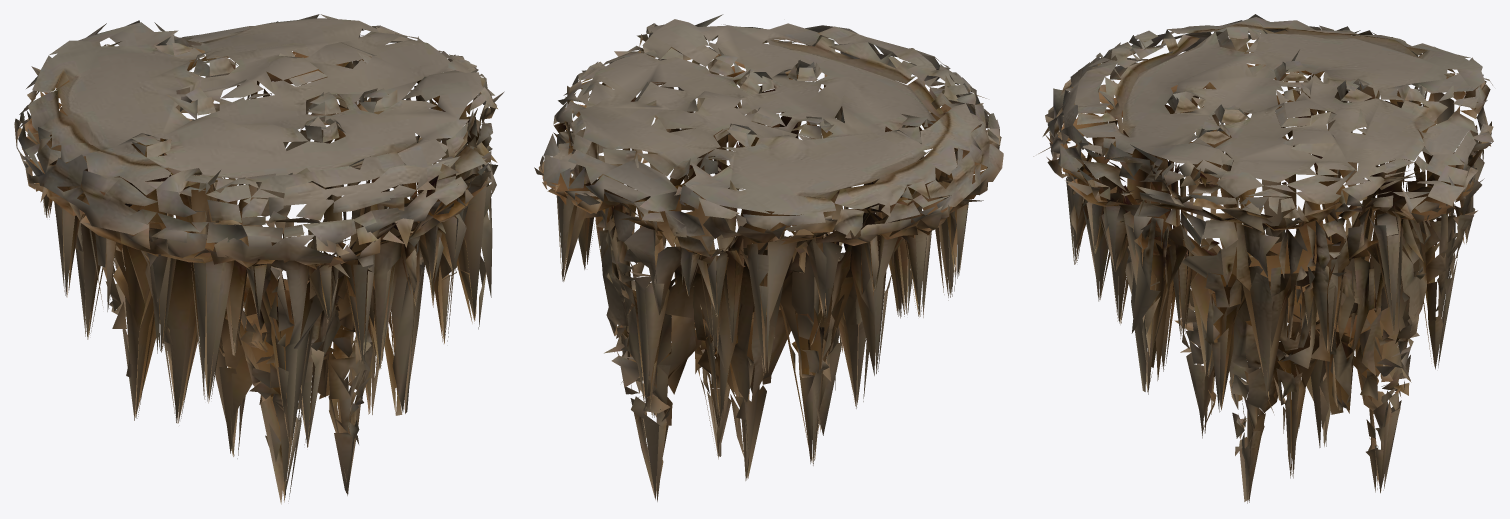
Rendered from cav_stalactite_ceiling_cluster_LOD2.glb.
3 views of the same model, side by side, from view 1: azimuth 30°, elevation 25°; view 2: azimuth 150°, elevation 25°; view 3: azimuth 270°, elevation 25° (orthographic). The views are drawn at different scales.
Visible parts, largest first — view 1: tripo_node_cf9095d3-c141-4859-948e-a06c82a533c3; view 2: tripo_node_cf9095d3-c141-4859-948e-a06c82a533c3; view 3: tripo_node_cf9095d3-c141-4859-948e-a06c82a533c3.
Part boxes in pixels (<box>): tripo_node_cf9095d3-c141-4859-948e-a06c82a533c3: <box>14,14,504,504</box>; tripo_node_cf9095d3-c141-4859-948e-a06c82a533c3: <box>534,14,1003,501</box>; tripo_node_cf9095d3-c141-4859-948e-a06c82a533c3: <box>1033,14,1493,503</box>.
Size of the model in its own units: 1.02 by 0.9418 by 1.02.
Materials: 1 (1 with a texture image).
